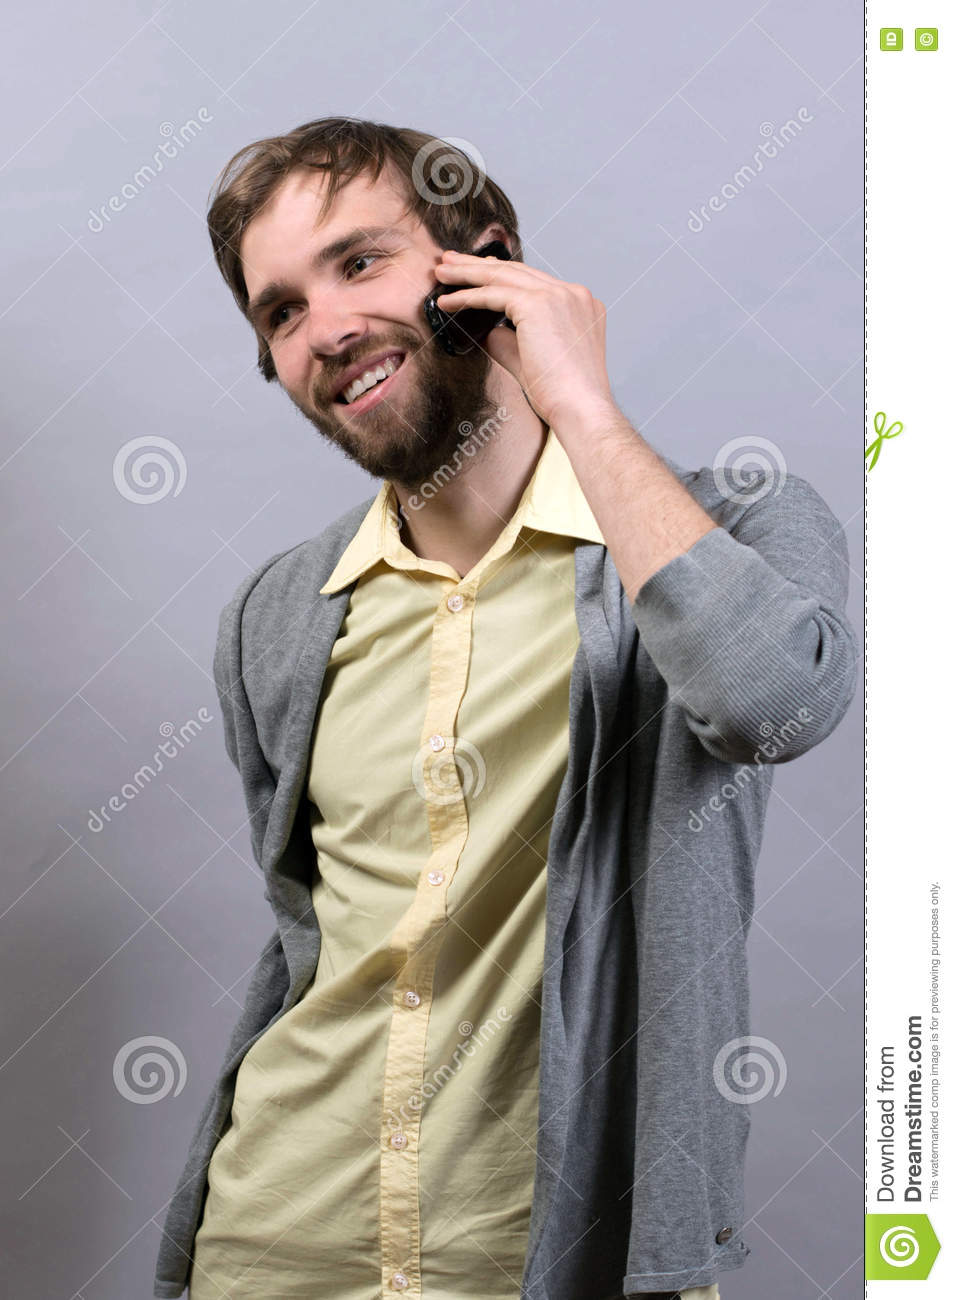phone: (424, 237, 515, 361)
talk: (246, 212, 613, 489)
